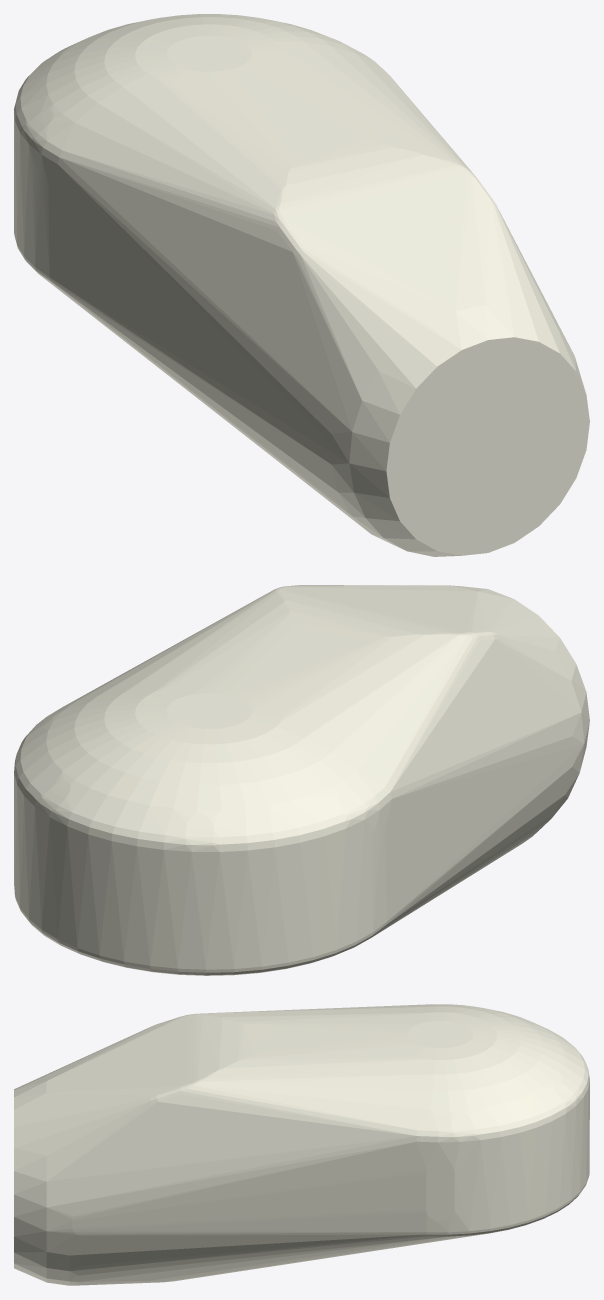
Rendered from MOTOMAN_AXIS_U_COLLISION.dae.
3 renders of one model, top to bottom at view 1: azimuth 30°, elevation 25°; view 2: azimuth 150°, elevation 25°; view 3: azimuth 270°, elevation 25°, orthographic. The views are drawn at different scales.
Visible parts, largest first — view 1: node; view 2: node; view 3: node.
Boxes of the visible parts, x1,y1,x2,y2 form: node: (14, 14, 589, 556); node: (14, 585, 589, 975); node: (14, 1004, 589, 1285).
Size of the model in its own units: 0.183 by 0.1629 by 0.3525.
Materials: 1 (1 with a texture image).
